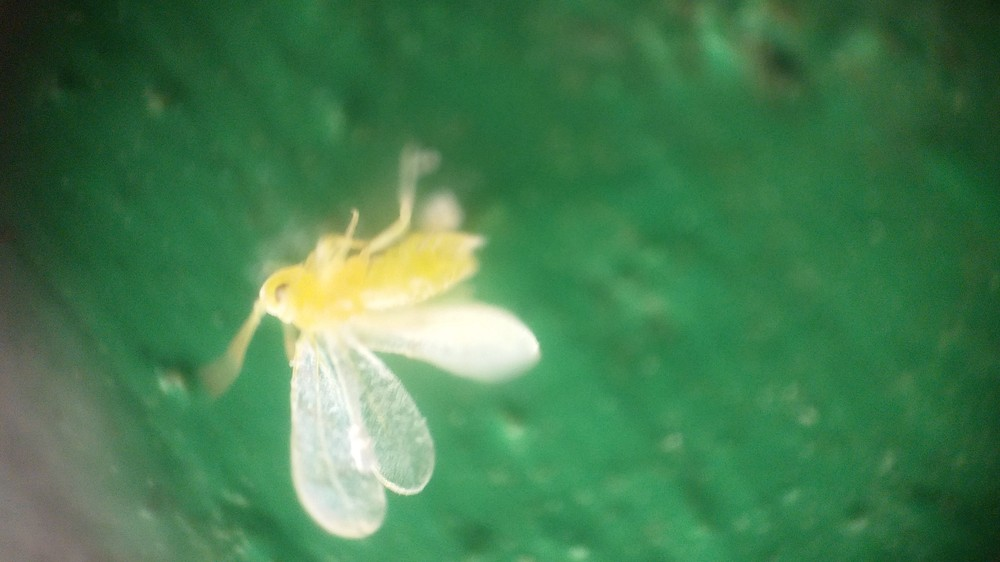Mosca Blanca: (200, 133, 558, 536)
